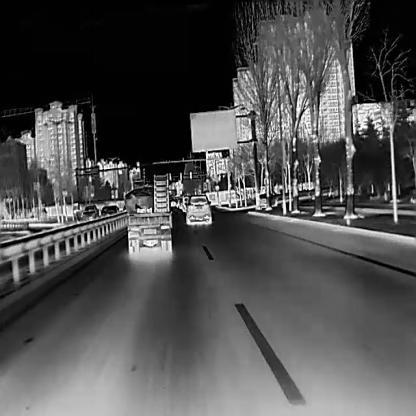car: (124, 172, 170, 254), (184, 193, 212, 225), (99, 204, 120, 227), (79, 205, 98, 228), (181, 197, 189, 211)
